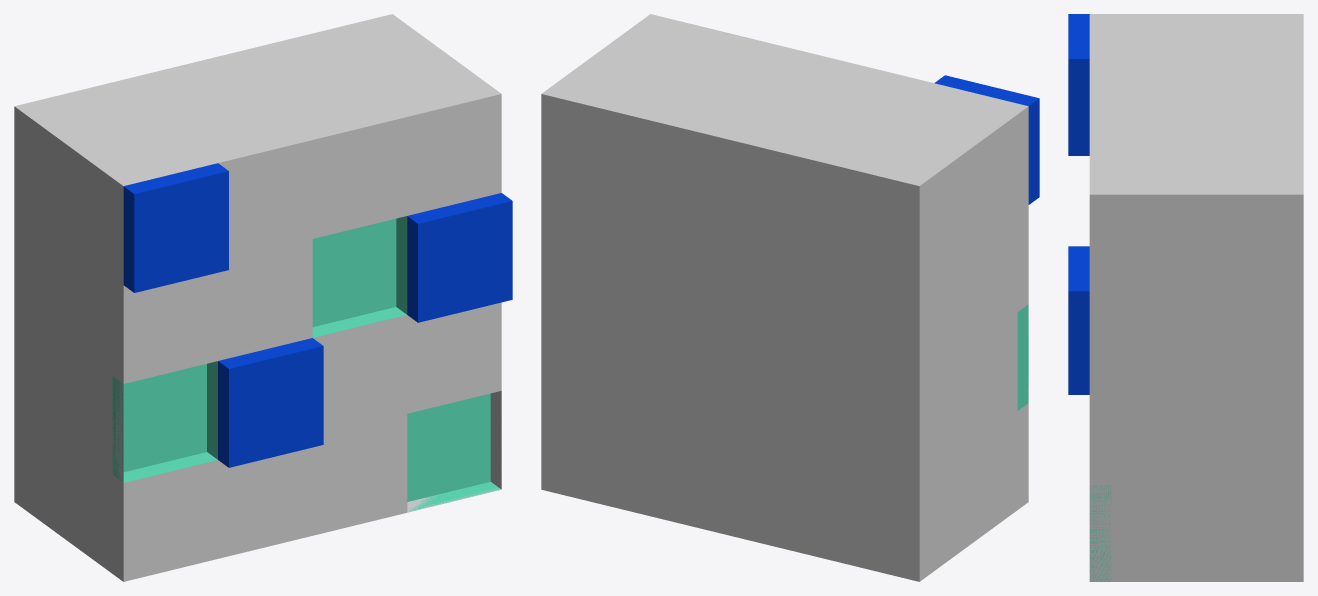
File: Wall1_2x2.fbx
The picture shows the model from 3 angles, left to right: view 1: azimuth 30°, elevation 25°; view 2: azimuth 150°, elevation 25°; view 3: azimuth 270°, elevation 25°; orthographic projection. The views are drawn at different scales.
Parts seen in each view (by area): view 1: Wall 2x2; view 2: Wall 2x2; view 3: Wall 2x2.
Part boxes in pixels (x1,y1,x2,y2): Wall 2x2: (14,14,512,581); Wall 2x2: (541,14,1039,581); Wall 2x2: (1068,14,1303,581).
Size of the model in its own units: 200 by 200 by 110.
